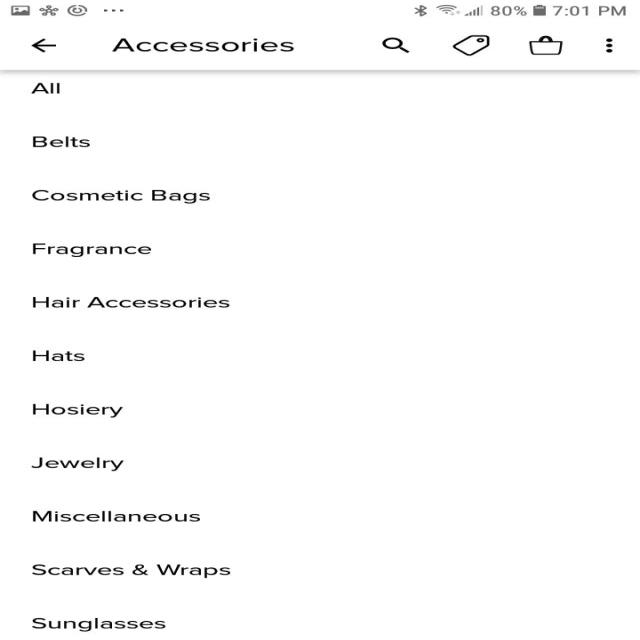Icon: (452, 35, 489, 56), (528, 36, 563, 55), (382, 37, 409, 53), (31, 38, 57, 53), (604, 38, 612, 53)
Text: (31, 564, 230, 578), (31, 189, 210, 204), (111, 38, 294, 52), (32, 296, 230, 308), (31, 617, 165, 632), (32, 510, 200, 521), (32, 242, 151, 257), (31, 456, 125, 471), (32, 403, 124, 418), (33, 136, 90, 148), (32, 350, 85, 361), (31, 82, 60, 94)
